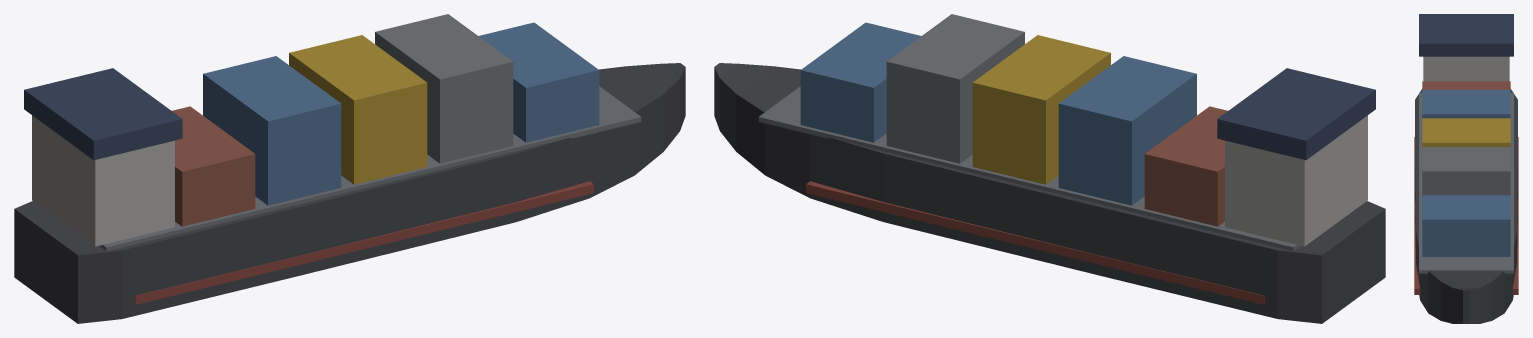
Rendered from port_ship_boxa_medium_lvl1.glb.
3 renders of one model, left to right at view 1: azimuth 30°, elevation 25°; view 2: azimuth 150°, elevation 25°; view 3: azimuth 270°, elevation 25°, orthographic. The views are drawn at different scales.
Visible parts, largest first — view 1: port_ship_boxa_medium; view 2: port_ship_boxa_medium; view 3: port_ship_boxa_medium.
Boxes of the visible parts, bbox=[...] form: port_ship_boxa_medium: bbox=[14, 14, 685, 323]; port_ship_boxa_medium: bbox=[714, 14, 1385, 323]; port_ship_boxa_medium: bbox=[1414, 14, 1518, 323].
Size of the model in its own units: 0.3726 by 0.1019 by 0.0775.
